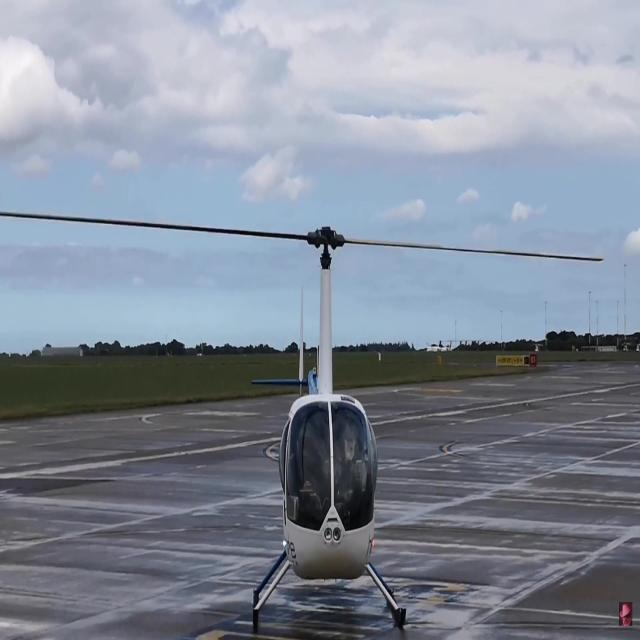CIV_HELO: (250, 221, 408, 630)
